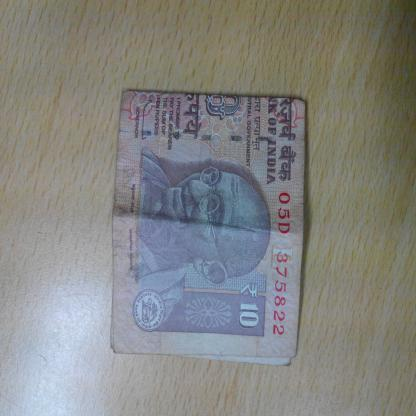Old10Front: (110, 88, 308, 368)
